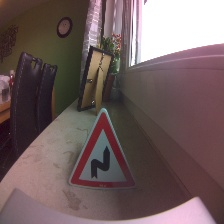vorsicht: (69, 107, 138, 194)
